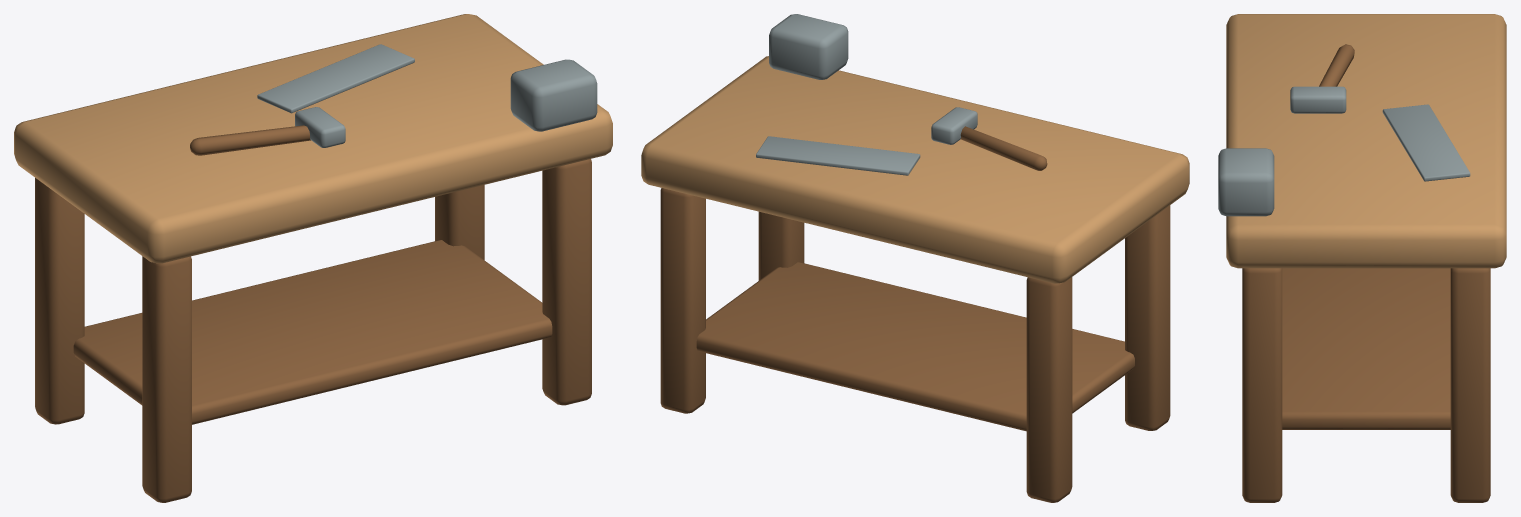
File: workbench.glb
The picture shows the model from 3 angles, left to right: view 1: azimuth 30°, elevation 25°; view 2: azimuth 150°, elevation 25°; view 3: azimuth 270°, elevation 25°; orthographic projection. The views are drawn at different scales.
Visible parts, largest first — view 1: bench; view 2: bench; view 3: bench.
Part boxes in pixels (x1,y1,x2,y2): bench: (14,14,612,502); bench: (641,14,1189,502); bench: (1218,14,1506,502).
Size of the model in its own units: 1.3 by 0.9 by 0.72.
